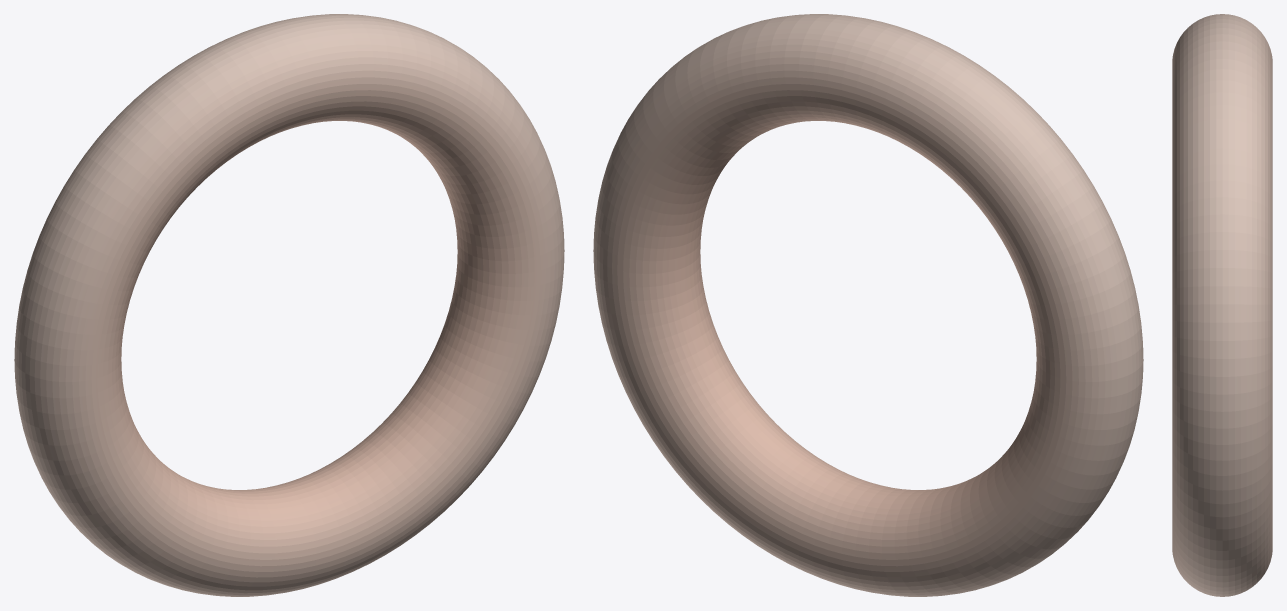
The picture shows the model from 3 angles, left to right: view 1: azimuth 30°, elevation 25°; view 2: azimuth 150°, elevation 25°; view 3: azimuth 270°, elevation 25°; orthographic projection. The views are drawn at different scales.
Visible parts, largest first — view 1: world; view 2: world; view 3: world.
Boxes of the visible parts, x1,y1,x2,y2 form: world: (14,14,564,596); world: (593,14,1143,596); world: (1172,14,1272,596).
Bounding box in the file's own units: 17.73 × 17.73 × 3.06.
